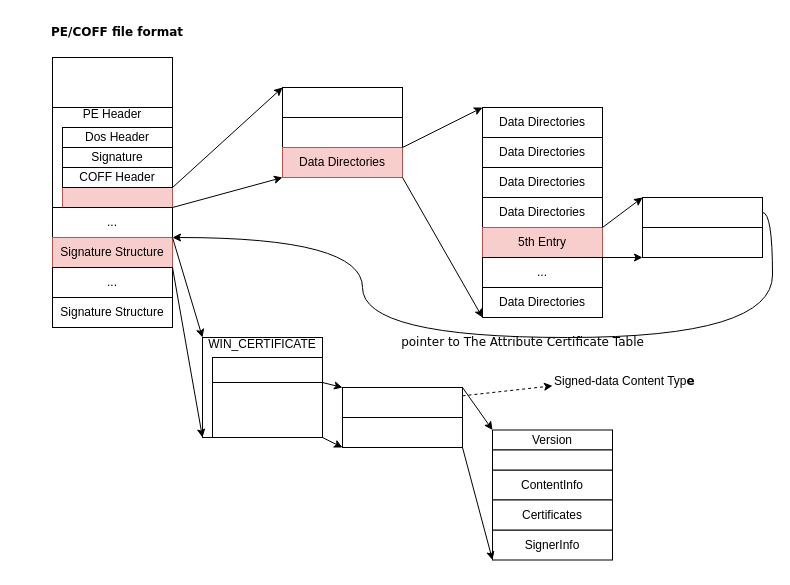
Some shapes in this 790 by 585 pixel diagram are drawn without their labels. The centre of each missing label's shape, as x and y in pixels:
Authenticode signature: (x=267, y=410)
Content: (x=402, y=432)
ContentType: (x=402, y=402)
digestAlg: (x=552, y=459)
Header: (x=267, y=369)
MS-DOS: (x=112, y=87)
Optional Header: (x=117, y=197)
size: (x=702, y=242)
Standard Fileds: (x=342, y=102)
virtual_address: (x=702, y=212)
Windows Fileds: (x=342, y=132)
